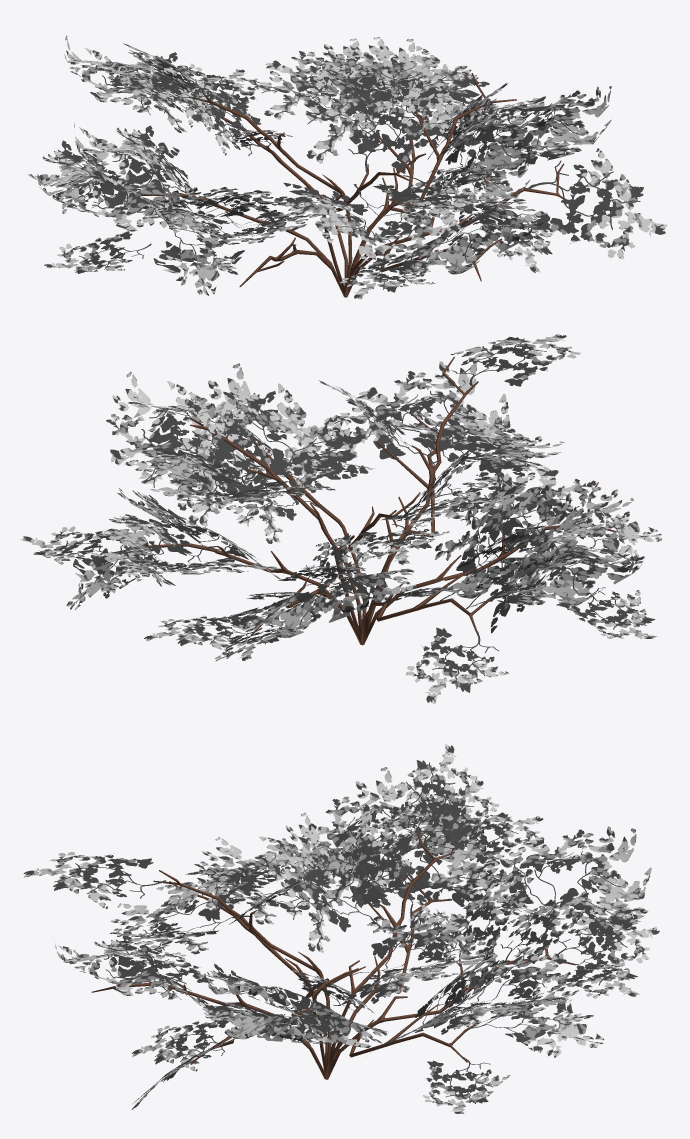
File: PW_M_Shrub_01.fbx
3 views of the same model, one above another, from view 1: azimuth 30°, elevation 25°; view 2: azimuth 150°, elevation 25°; view 3: azimuth 270°, elevation 25° (orthographic). The views are drawn at different scales.
Visible parts, largest first — view 1: PW_DD_shrub_01_LOD0; view 2: PW_DD_shrub_01_LOD0; view 3: PW_DD_shrub_01_LOD0.
Part boxes in pixels (left/top/right/bottom): PW_DD_shrub_01_LOD0: left=27, top=35, right=666, bottom=299; PW_DD_shrub_01_LOD0: left=20, top=334, right=662, bottom=704; PW_DD_shrub_01_LOD0: left=23, top=744, right=659, bottom=1113.
Size of what is drawn, in the model's own units: 1.66 by 0.7389 by 1.72.
Materials: 2 (1 with a texture image).
